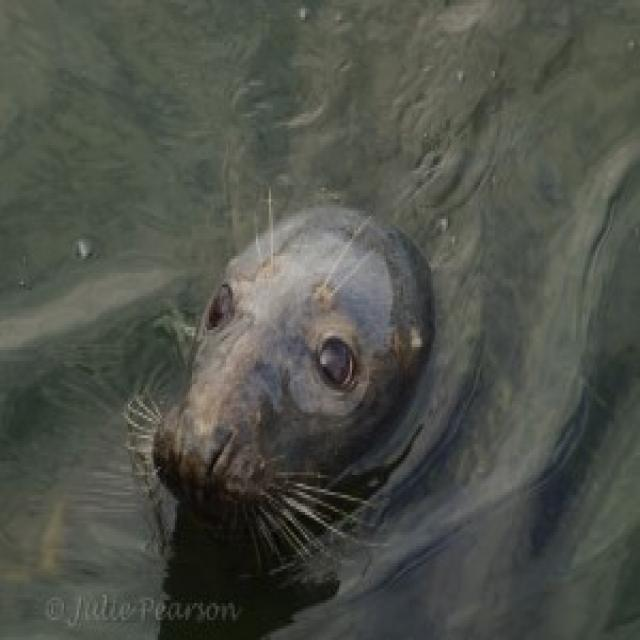Seal: (145, 187, 433, 574)
